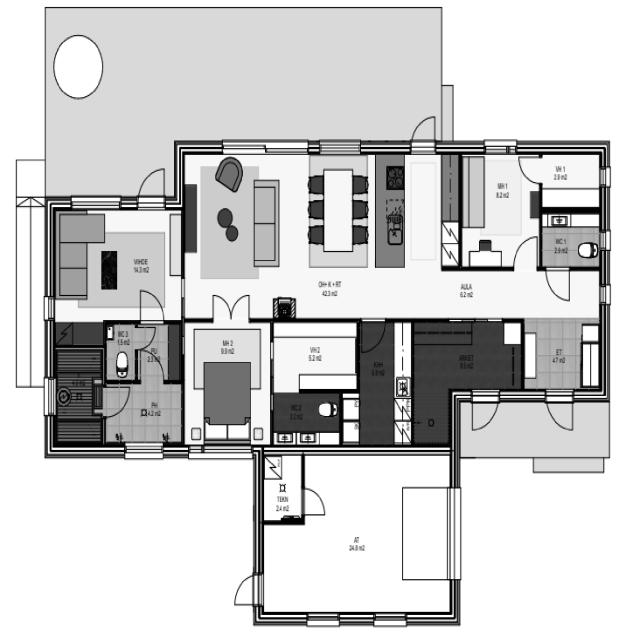door: (136, 163, 173, 211), (206, 286, 253, 322), (542, 386, 576, 431), (234, 569, 266, 616), (542, 263, 574, 307), (138, 345, 170, 386), (136, 284, 166, 327), (469, 386, 499, 429), (509, 229, 540, 270), (358, 310, 385, 356), (101, 380, 132, 420), (516, 149, 542, 191), (298, 483, 328, 518), (411, 114, 436, 155), (135, 325, 157, 349)
window: (187, 432, 254, 461), (215, 138, 310, 155), (59, 187, 123, 210), (118, 435, 166, 464), (303, 605, 347, 635), (309, 138, 370, 157), (368, 605, 408, 628), (40, 373, 56, 425), (481, 137, 519, 156), (595, 281, 616, 307), (600, 225, 614, 253), (598, 166, 612, 188), (42, 295, 53, 323)
zone: (176, 148, 462, 319), (46, 202, 186, 325), (182, 320, 271, 454), (460, 148, 539, 271), (48, 314, 102, 453), (356, 322, 412, 446), (270, 318, 357, 392), (543, 146, 598, 211), (542, 209, 601, 267), (103, 323, 135, 381)
